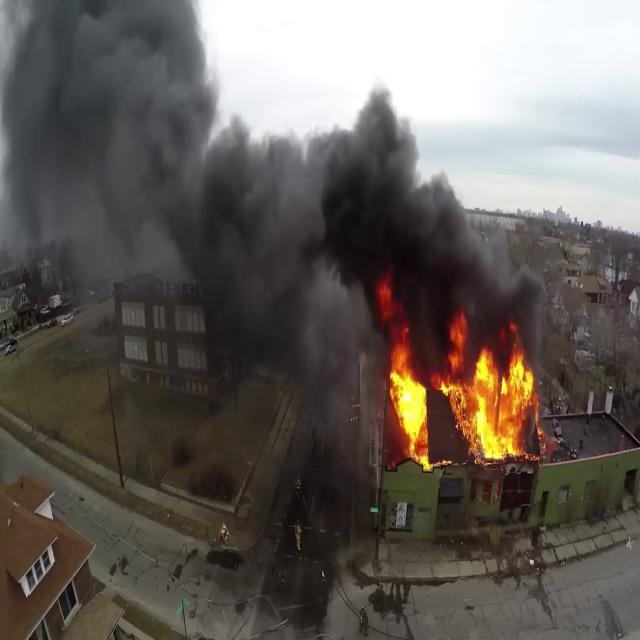Fire: (385, 319, 544, 467)
Smoke: (213, 69, 547, 351), (1, 1, 214, 256)
